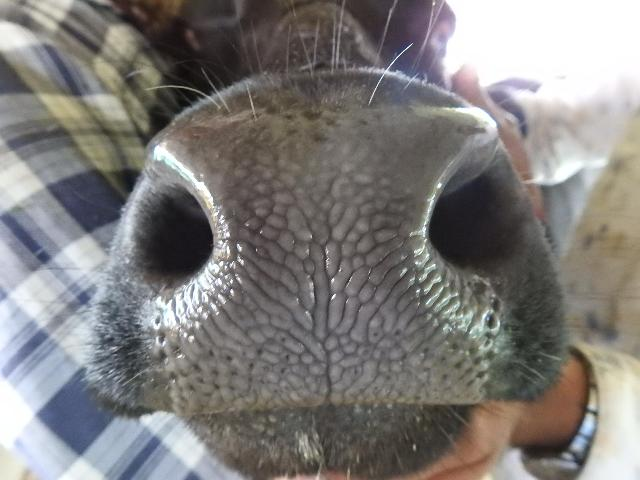Muzzle: (184, 140, 450, 404)
